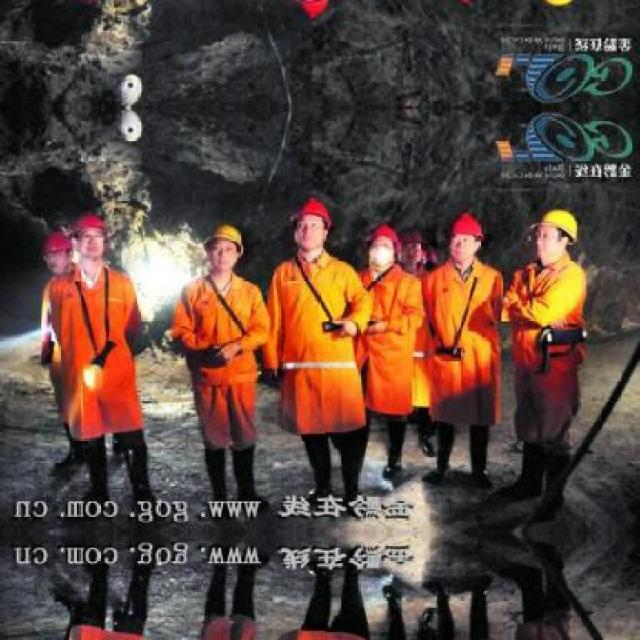Reflective-Jacket: (37, 261, 145, 434), (271, 251, 369, 423), (171, 274, 271, 409), (419, 263, 506, 397), (508, 257, 595, 366)
Safety-Helmet: (526, 203, 585, 246), (58, 206, 115, 248), (284, 191, 338, 232), (442, 208, 491, 248), (200, 218, 251, 254)
